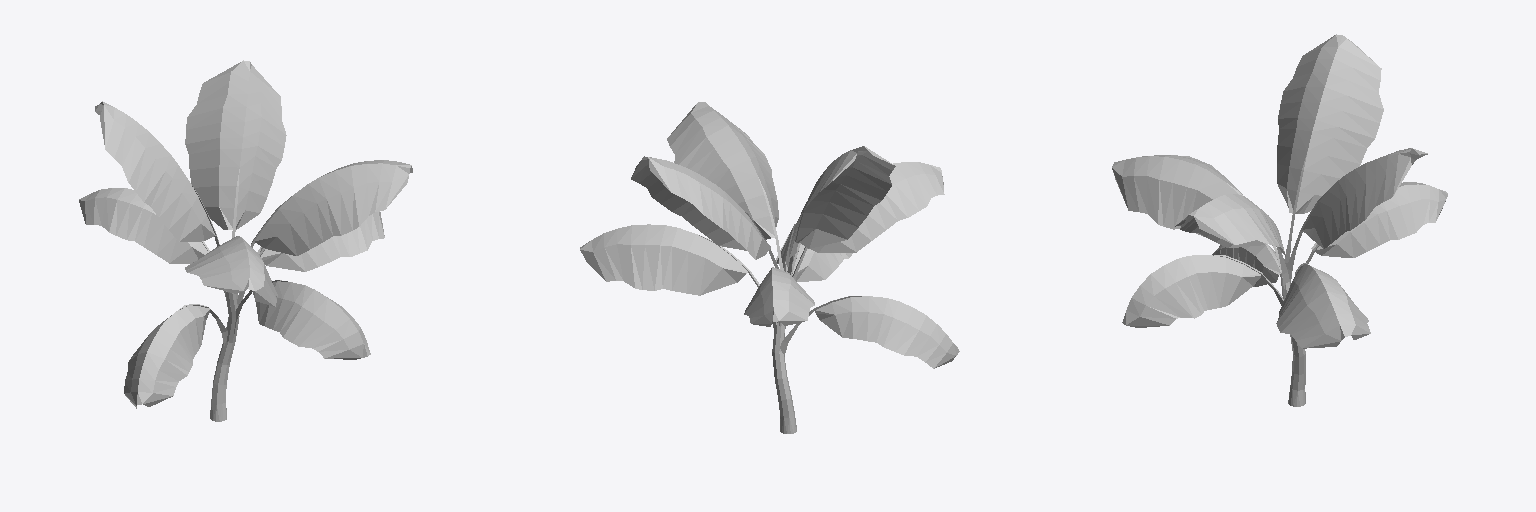
Rendered from banana plant 01.obj.
The picture shows the model from 3 angles: view 1: azimuth 30°, elevation 25°; view 2: azimuth 150°, elevation 25°; view 3: azimuth 270°, elevation 25°; orthographic projection.
Parts seen in each view (by area): view 1: tree; view 2: tree; view 3: tree.
Part boxes in pixels (x1,y1,x2,y2): tree: (79,60,412,421); tree: (580,102,959,433); tree: (1112,34,1447,406).
Bounding box in the file's own units: 274 × 272 × 257.